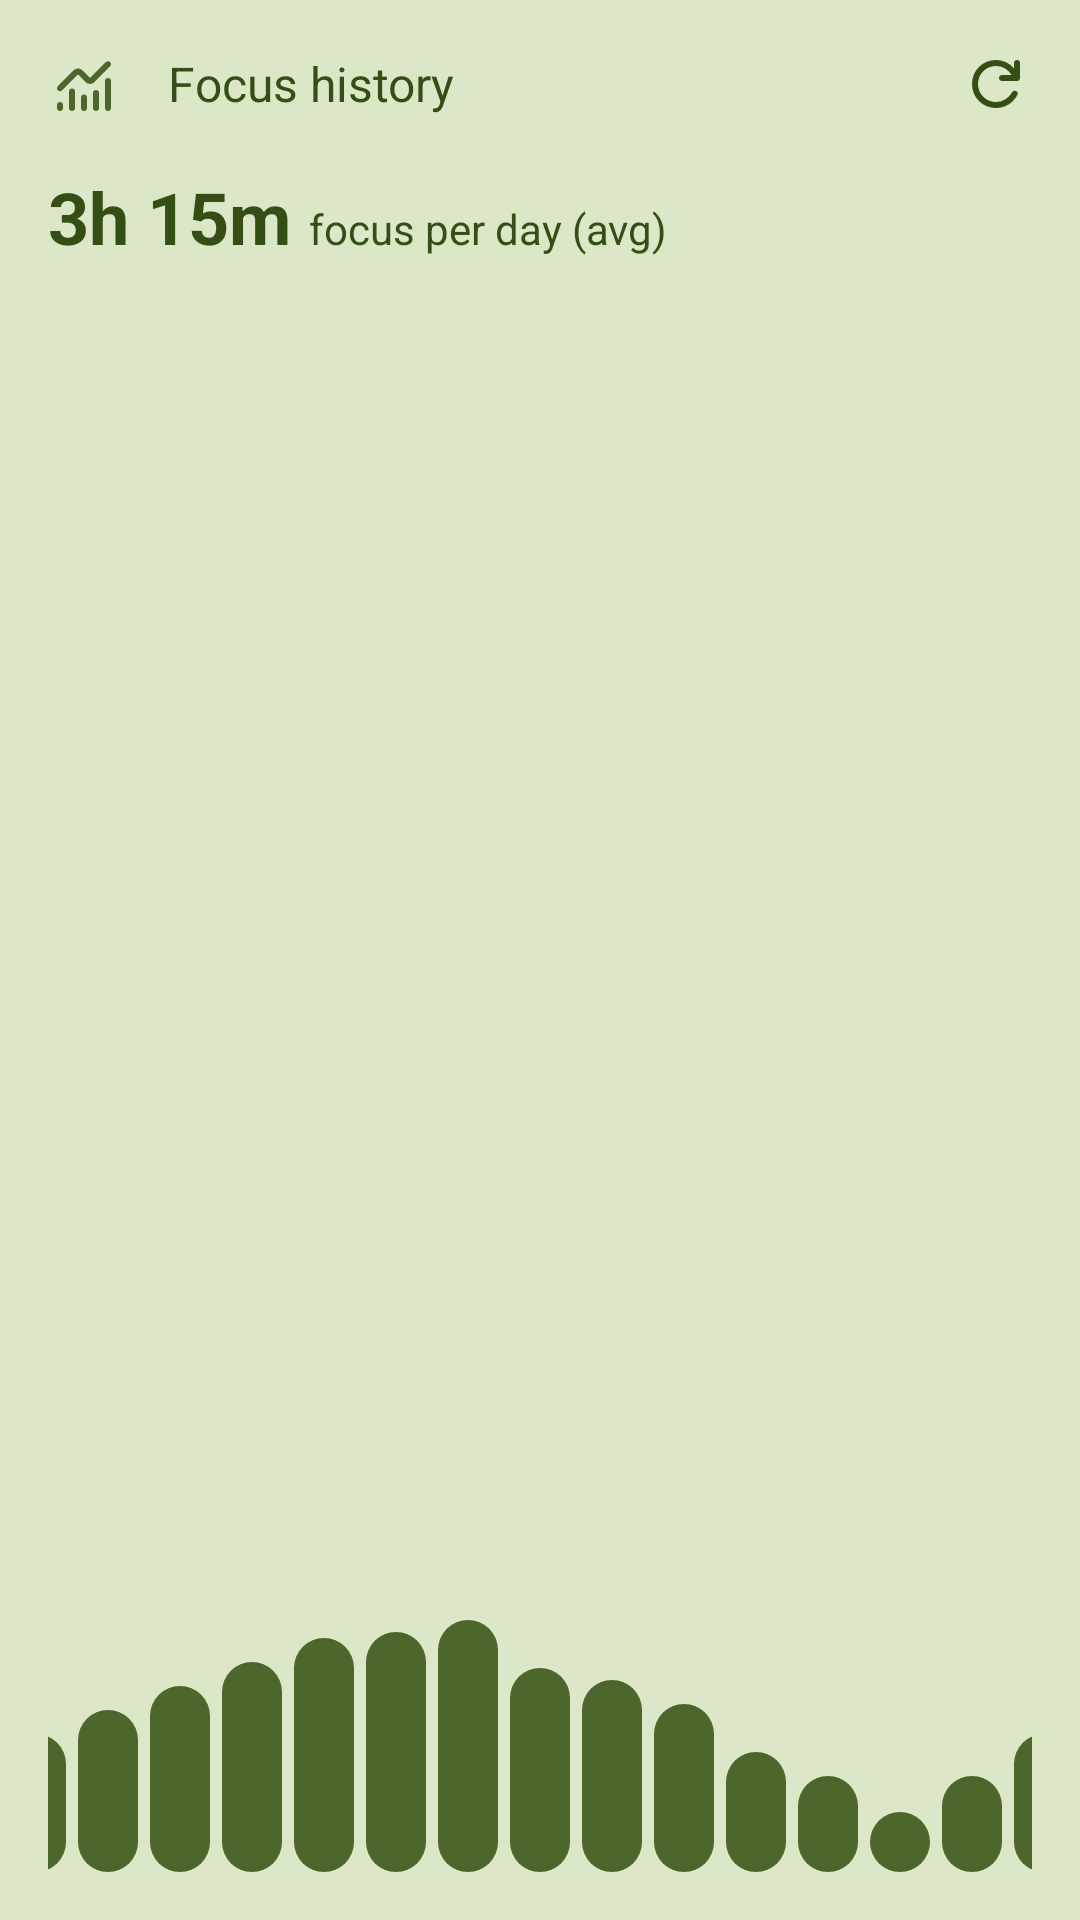

Where icons sit on this 1080 × 1920 app screen, as (x1=x1, y1=y1, x2=x2, y2=y2):
monitoring: (x1=57, y1=61, x2=111, y2=111)
refresh: (x1=972, y1=60, x2=1020, y2=108)
